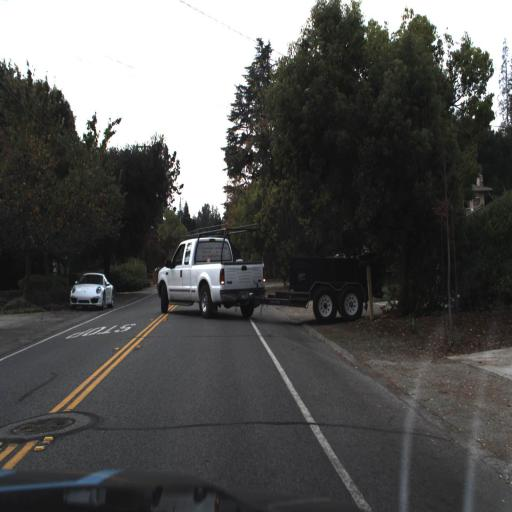car: (157, 229, 382, 327), (68, 270, 114, 313)
